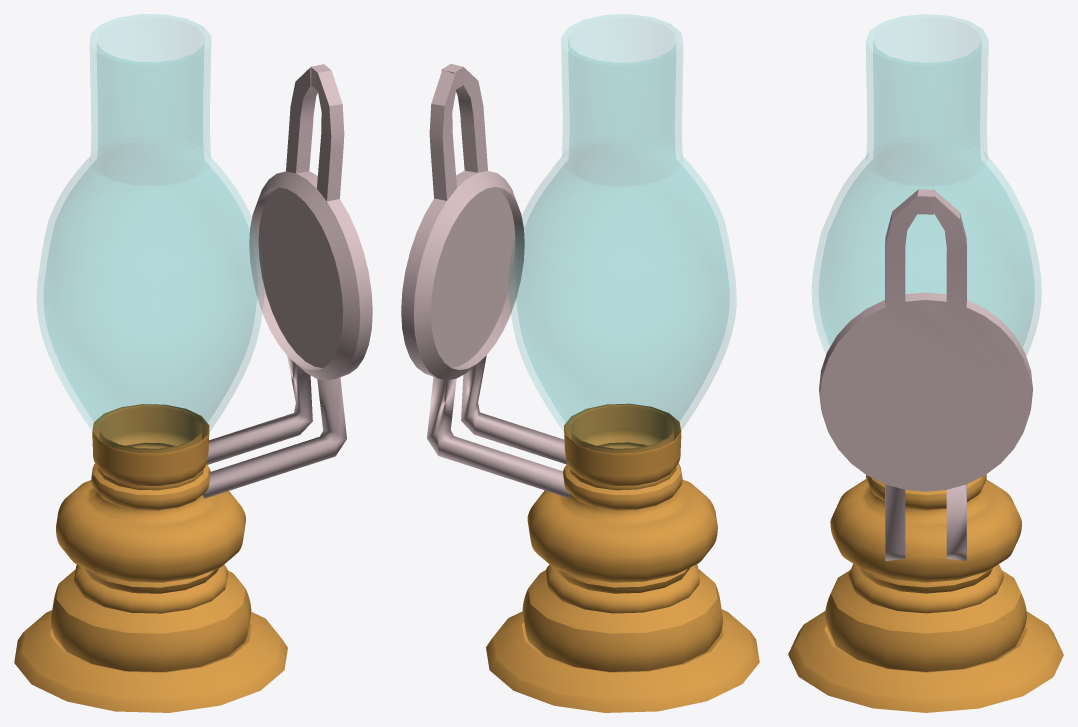
The model's file is classic-lamp-indonesian.obj.
3 views of the same model, side by side, from view 1: azimuth 30°, elevation 25°; view 2: azimuth 150°, elevation 25°; view 3: azimuth 270°, elevation 25° (orthographic).
Visible parts, largest first — view 1: cempor; view 2: cempor; view 3: cempor.
Part boxes in pixels (x1=…): cempor: x1=14, y1=14, x2=372, y2=712; cempor: x1=401, y1=14, x2=759, y2=712; cempor: x1=788, y1=14, x2=1063, y2=712.
Bounding box in the file's own units: 12.15 × 24.26 × 9.79.
